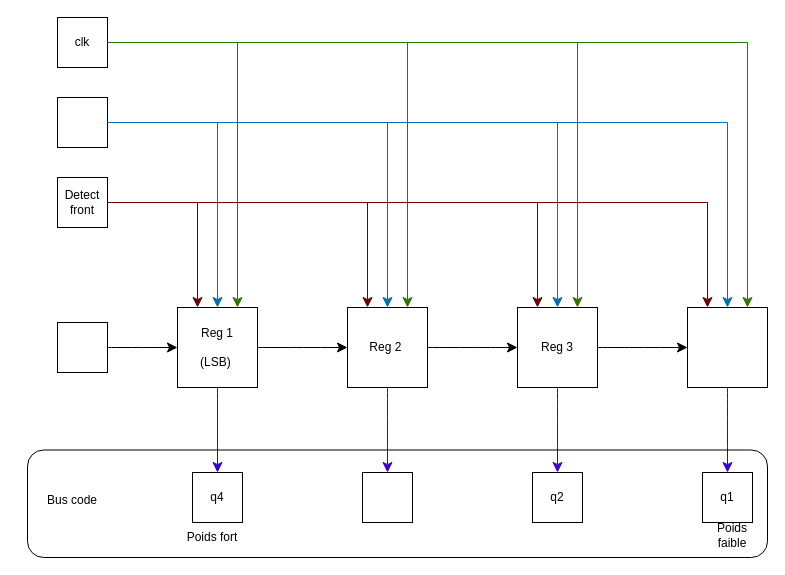
This 785x575 diagram has some shape labels left out. The shapes that lost their labels are listed below. From the top down, each one's box as (x1, y1, x2, y2) in pixels, then its label:
(56, 96, 108, 148): Rst
(56, 322, 108, 372): Bus int
(686, 306, 768, 388): Reg 4 (MSB)
(362, 472, 412, 522): q3
